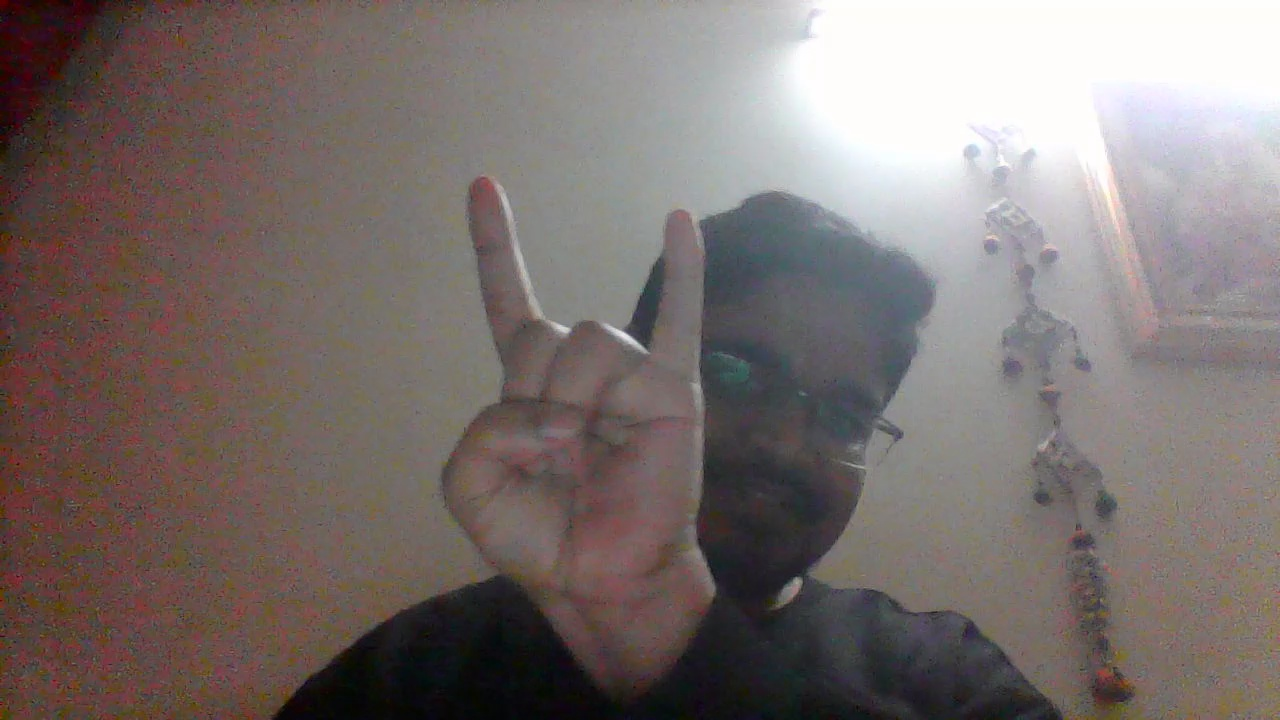ILoveYou: (429, 173, 708, 612)
